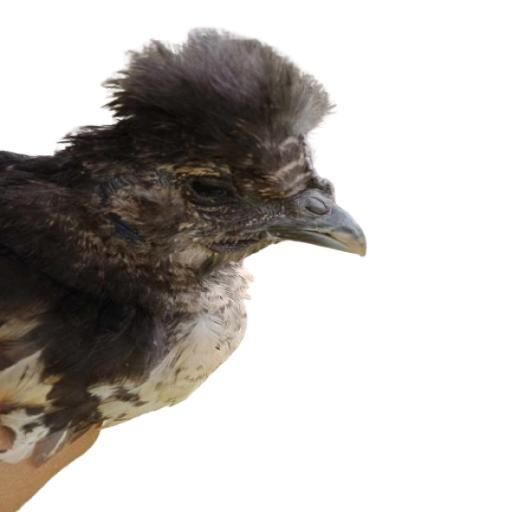disease: (126, 142, 290, 251)
